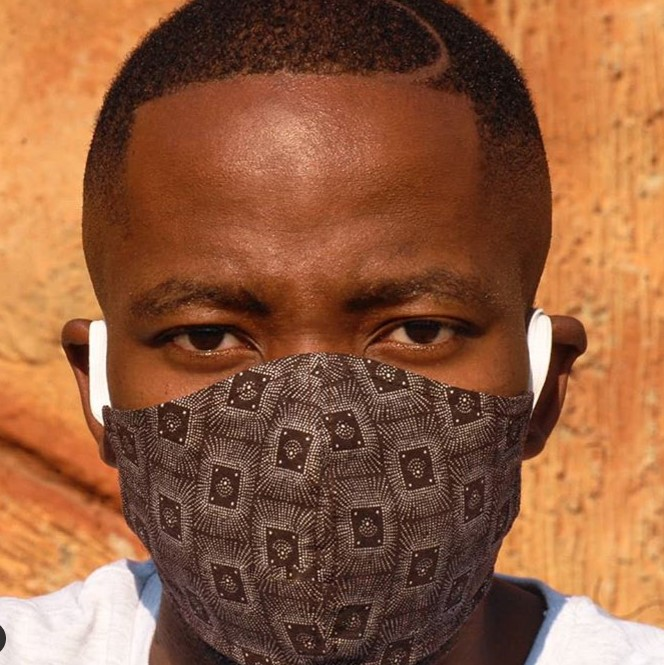face_with_mask: (63, 0, 586, 665)
